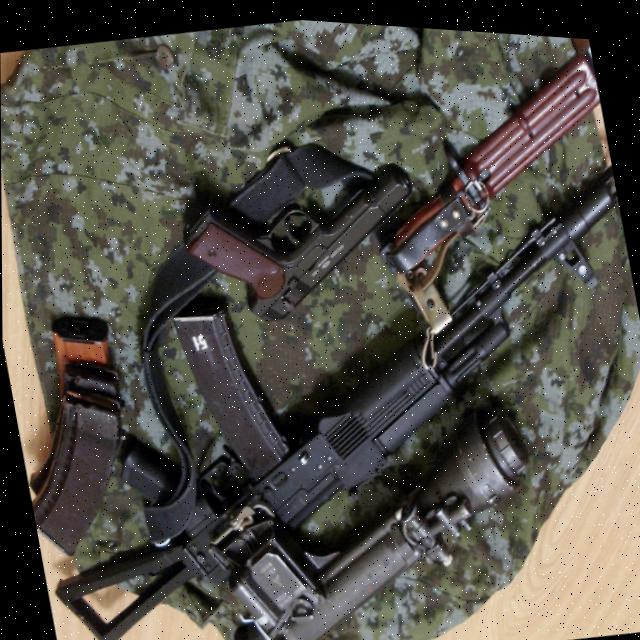firearm: (1, 123, 640, 640)
knife: (340, 18, 621, 255)
pistol: (170, 146, 433, 340)
